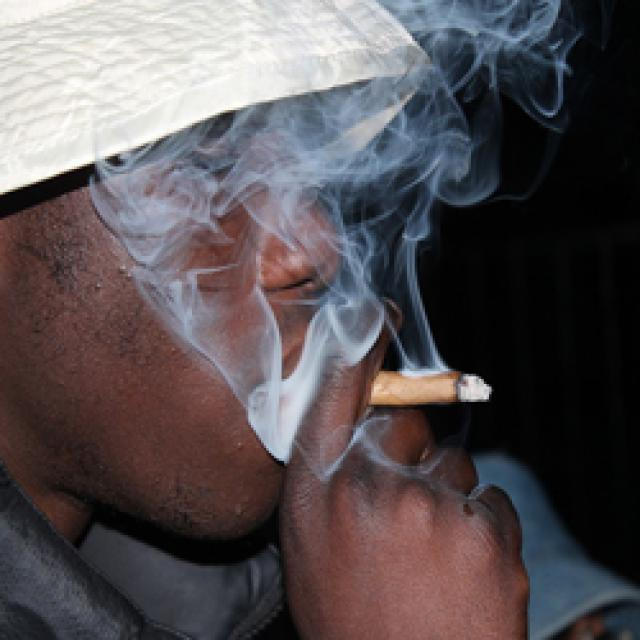Smooking: (372, 342, 502, 426)
